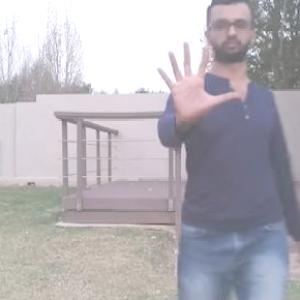follow_hand: (152, 34, 242, 129)
